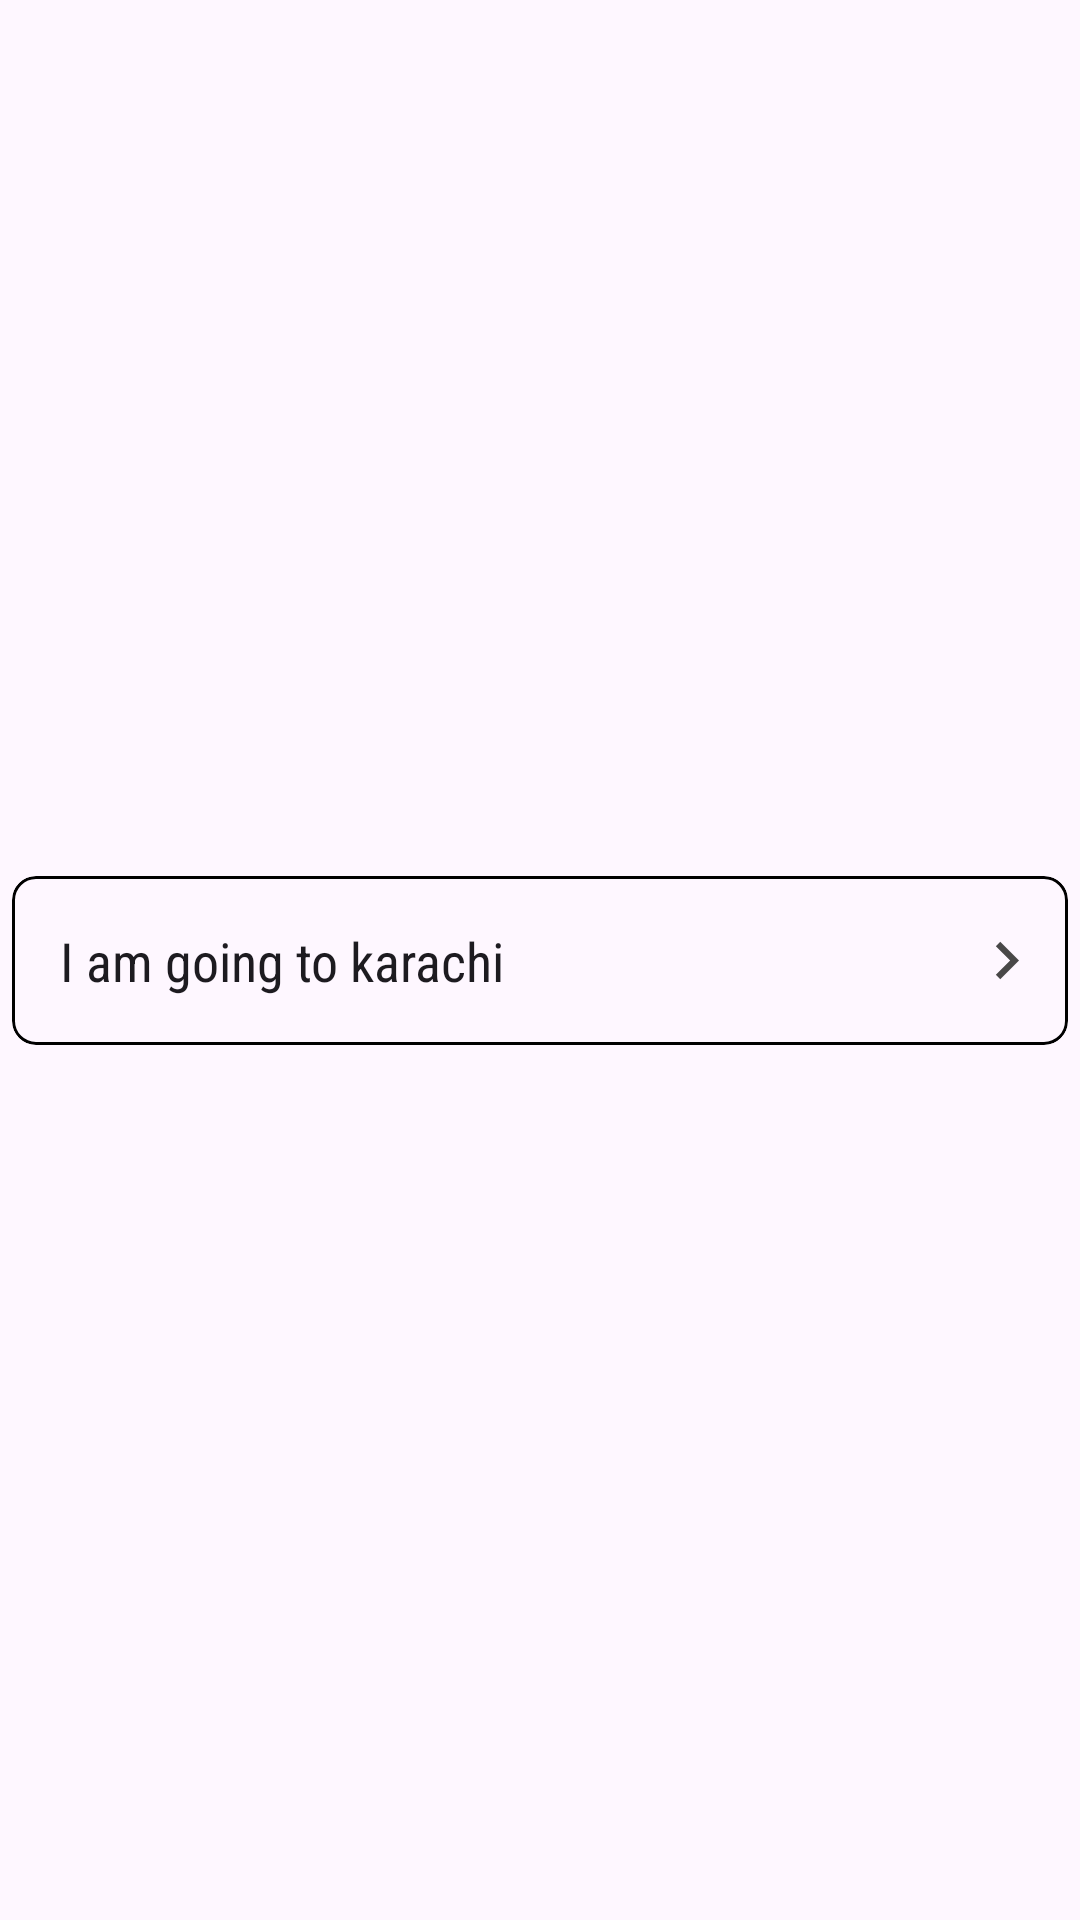

Named icons in this screenshot (1080px x 1920px) and their bounding boxes, (x1, y1, x2, y2):
chevron right: (996, 942, 1019, 979)
